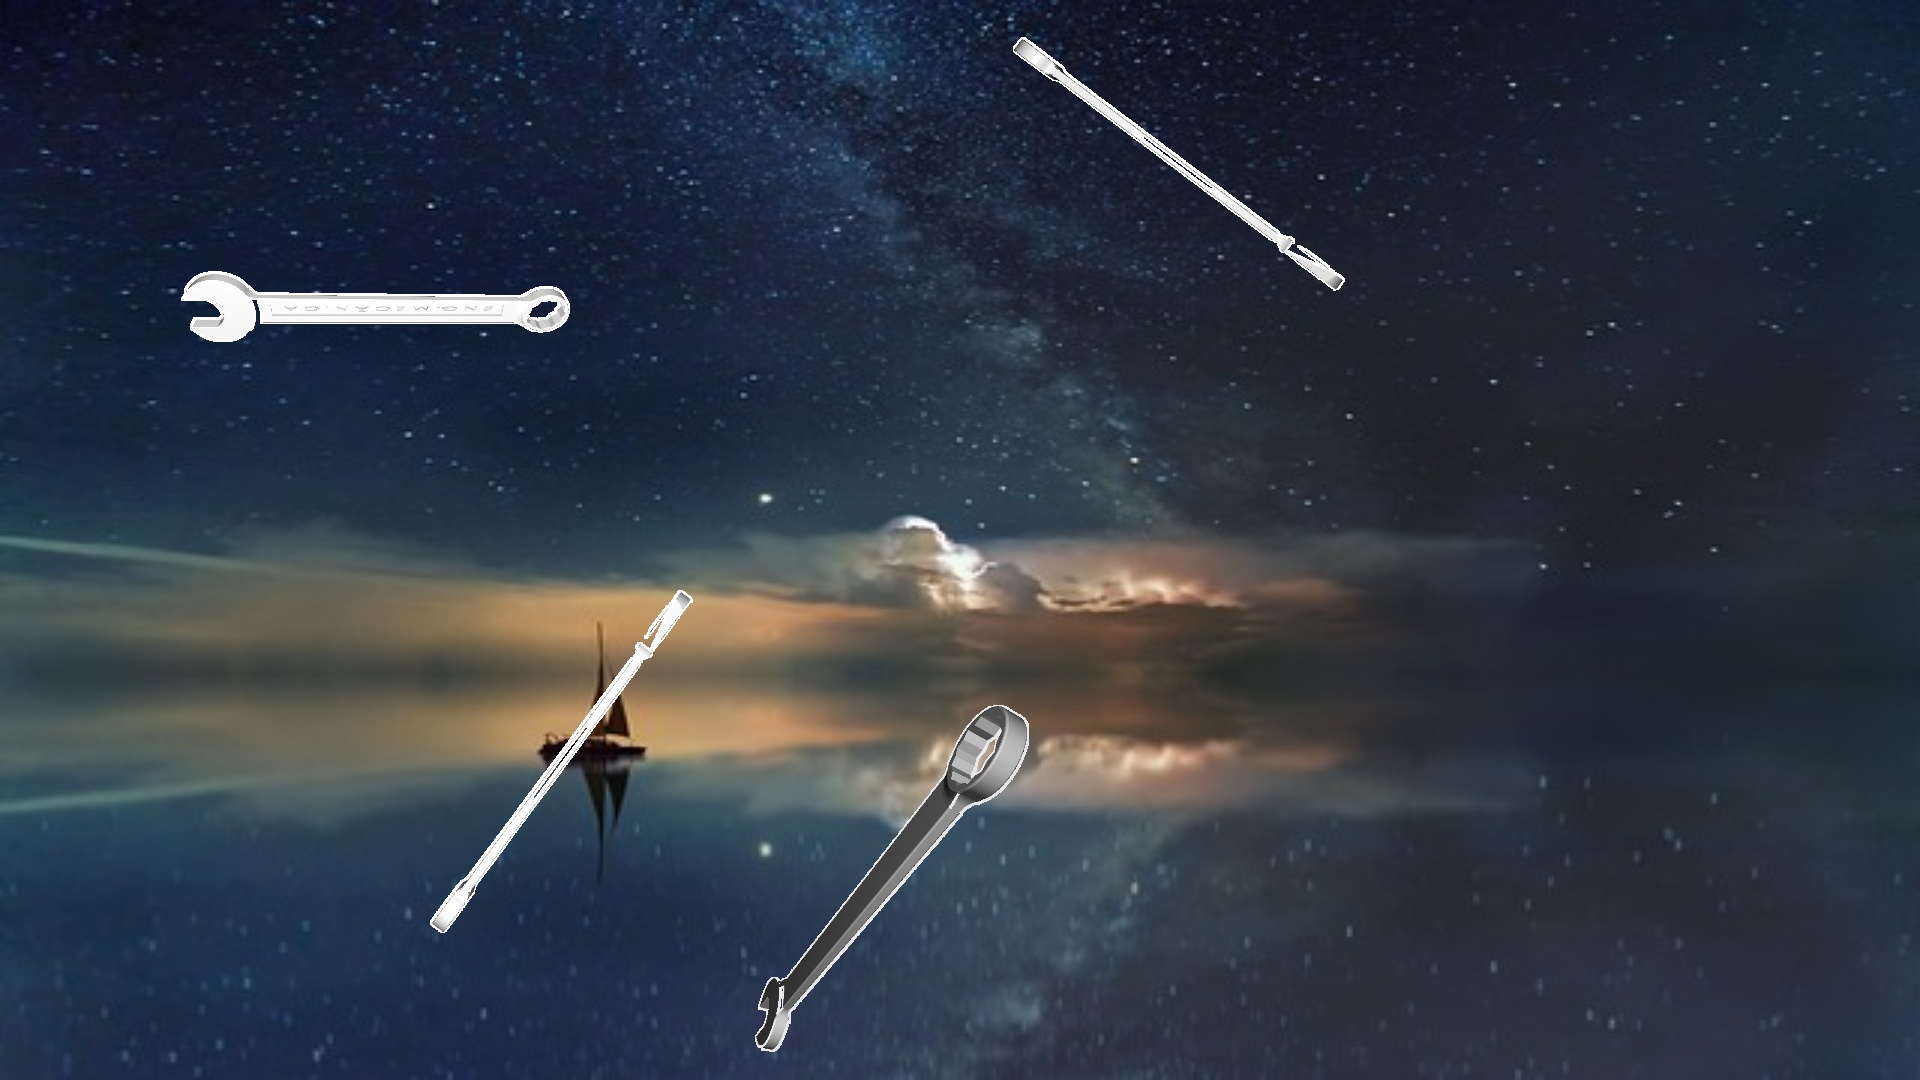Mixed Key: (756, 705, 1029, 1051), (430, 589, 692, 932), (1013, 37, 1344, 290), (181, 272, 568, 342)
